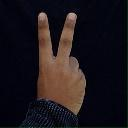hand: (36, 11, 86, 115)
